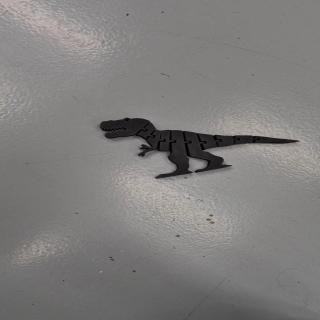dino: (100, 117, 300, 179)
